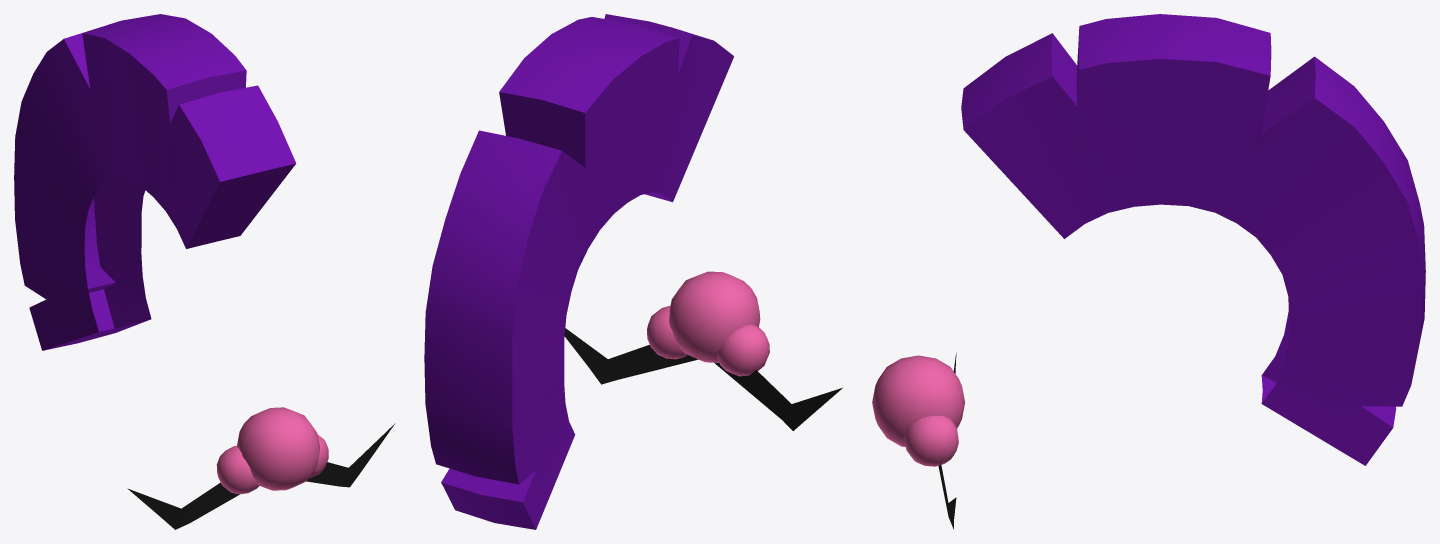
Rendered from Claw_Creator_Character_Feature_Set_02.fbx.
The picture shows the model from 3 angles, left to right: view 1: azimuth 30°, elevation 25°; view 2: azimuth 150°, elevation 25°; view 3: azimuth 270°, elevation 25°; orthographic projection. The views are drawn at different scales.
Visible parts, largest first — view 1: SM_Hair_03, SM_Nose_02; view 2: SM_Hair_03, SM_Nose_02; view 3: SM_Hair_03, SM_Nose_02.
Part boxes in pixels (x1=…): SM_Hair_03: x1=14, y1=14, x2=296, y2=350; SM_Nose_02: x1=127, y1=407, x2=395, y2=529; SM_Hair_03: x1=424, y1=14, x2=733, y2=529; SM_Nose_02: x1=564, y1=271, x2=842, y2=430; SM_Hair_03: x1=961, y1=14, x2=1425, y2=465; SM_Nose_02: x1=872, y1=353, x2=964, y2=529.
Size of the model in its own units: 41.15 by 58.62 by 65.48.
